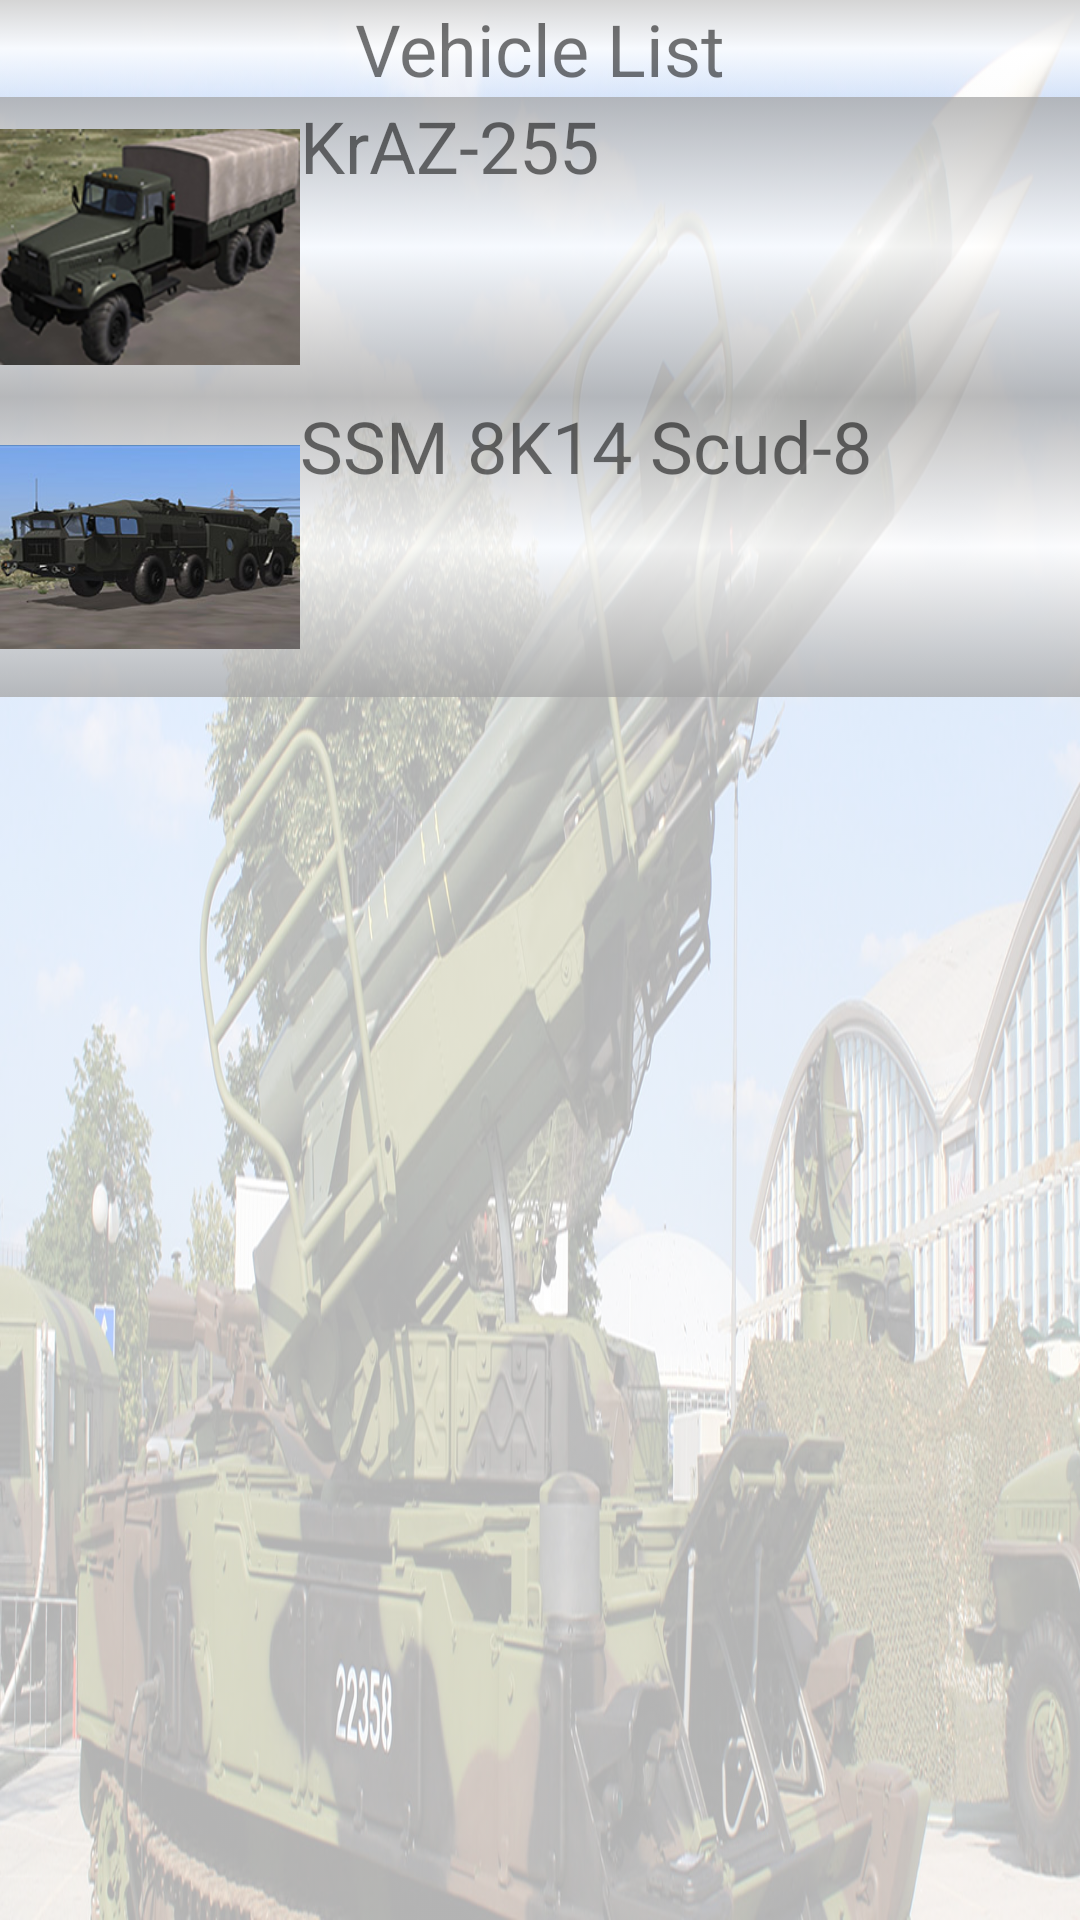

Point at icon controls on the screen. Image size 1080 x 1920, points as (x,y).
dcs vehicle scud: (150,547)
